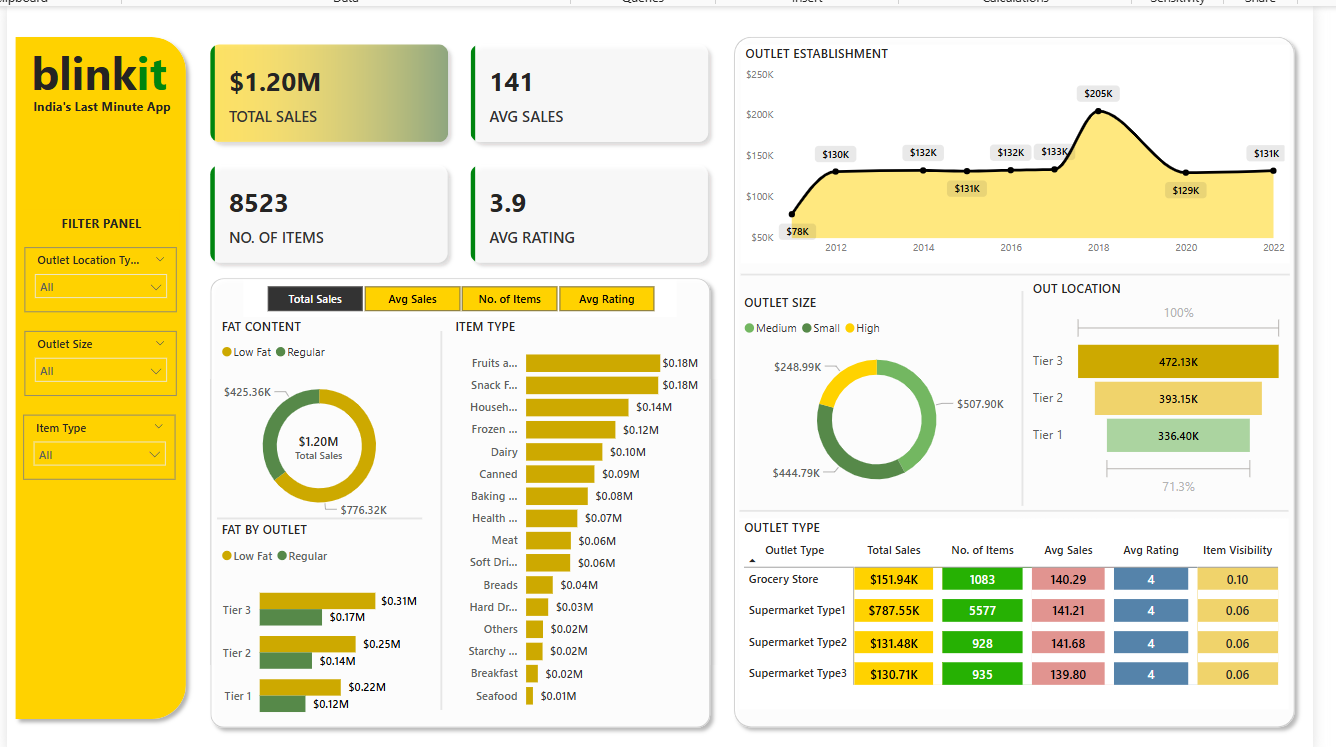

The dashboard page shown, as its layout file describes it:
{"tool":"powerbi","page":{"name":"Page 1","canvas":[1400,800],"ordinal":0},"visuals":[{"type":"shape","box":[0,24.1,201.1,749.3],"z":0},{"type":"textbox","box":[14.7,33.5,167.6,76.4],"z":1000},{"type":"textbox","box":[18.8,93.8,166.2,32.2],"z":2000},{"type":"cardVisual","fields":{"Data":["BlinkIT Grocery Data.Total Sales","BlinkIT Grocery Data.Avg Sales","BlinkIT Grocery Data.No. of Items","BlinkIT Grocery Data.Avg Rating"]},"box":[201.1,24.1,569.7,269.4],"z":3000},{"type":"shape","box":[209.1,282.8,554,500],"z":4000},{"type":"donutChart","title":"FAT CONTENT","fields":{"Y":["BlinkIT Grocery Data.Total Sales"],"Category":["BlinkIT Grocery Data.Item Fat Content"]},"box":[225.2,333.8,219.8,230.6],"z":5000},{"type":"slicer","fields":{"Values":["Metrics.Metrics"]},"box":[253.4,293.6,465.1,40.2],"z":6000},{"type":"cardVisual","fields":{"Data":["BlinkIT Grocery Data.Total Sales"]},"box":[288.2,427.6,92.5,91.2],"z":7000},{"type":"clusteredBarChart","title":"FAT BY OUTLET","fields":{"Y":["BlinkIT Grocery Data.Total Sales"],"Category":["BlinkIT Grocery Data.Outlet Location Type"],"Series":["BlinkIT Grocery Data.Item Fat Content"]},"box":[225.2,552.3,219.8,230.6],"z":8000},{"type":"shape","box":[225.2,541.6,219.8,16.1],"z":9000},{"type":"shape","box":[455.8,348.5,20.1,406.2],"z":10000},{"type":"barChart","title":"ITEM TYPE","fields":{"Y":["BlinkIT Grocery Data.Total Sales"],"Category":["BlinkIT Grocery Data.Item Type"]},"box":[475.9,333.8,270.8,430.3],"z":11000},{"type":"shape","box":[770.8,24.1,619.3,758.7],"z":12000},{"type":"lineChart","title":"OUTLET ESTABLISHMENT","fields":{"Y":["BlinkIT Grocery Data.Total Sales"],"Category":["BlinkIT Grocery Data.Outlet Establishment Year"]},"box":[786.9,41.6,588.5,234.6],"z":13000},{"type":"shape","box":[786.9,282.8,588.5,10.7],"z":14000},{"type":"donutChart","title":"OUTLET SIZE","fields":{"Y":["BlinkIT Grocery Data.Total Sales"],"Category":["BlinkIT Grocery Data.Outlet Size"]},"box":[785.5,308.3,294.9,225.2],"z":15000},{"type":"shape","box":[1081.8,305.6,14.7,230.6],"z":16000},{"type":"funnel","title":"OUT LOCATION","fields":{"Y":["Sum(BlinkIT Grocery Data.Sales)"],"Category":["BlinkIT Grocery Data.Outlet Location Type"]},"box":[1095.2,293.6,278.8,237.3],"z":17000},{"type":"shape","box":[785.5,536.2,588.5,10.7],"z":18000},{"type":"pivotTable","title":"OUTLET TYPE","fields":{"Rows":["BlinkIT Grocery Data.Outlet Type"],"Values":["BlinkIT Grocery Data.Total Sales","BlinkIT Grocery Data.No. of Items","BlinkIT Grocery Data.Avg Sales","BlinkIT Grocery Data.Avg Rating","Avg(BlinkIT Grocery Data.Item Visibility)"]},"box":[785.5,549.6,588.5,205.1],"z":19000},{"type":"slicer","fields":{"Values":["BlinkIT Grocery Data.Outlet Location Type"]},"box":[18.8,258.7,163.5,69.7],"z":20000},{"type":"slicer","fields":{"Values":["BlinkIT Grocery Data.Outlet Size"]},"box":[18.8,348.5,163.5,69.7],"z":21000},{"type":"slicer","fields":{"Values":["BlinkIT Grocery Data.Item Type"]},"box":[17.4,438.3,163.5,69.7],"z":22000},{"type":"textbox","box":[17.4,218.5,167.6,28.2],"z":23000}]}

Visuals, with their boxes on the page's 1400x800 design canvas (x1, y1, x2, y2). These are canvas units, not pixel positions in the 1336x747 screenshot, which may show the page scaled, cropped or inside an application window:
shape: x1=0, y1=24, x2=201, y2=773
textbox: x1=15, y1=34, x2=182, y2=110
textbox: x1=19, y1=94, x2=185, y2=126
cardVisual - BlinkIT Grocery Data.Total Sales x BlinkIT Grocery Data.Avg Sales: x1=201, y1=24, x2=771, y2=294
shape: x1=209, y1=283, x2=763, y2=783
"FAT CONTENT" donutChart: x1=225, y1=334, x2=445, y2=564
slicer - Metrics.Metrics: x1=253, y1=294, x2=718, y2=334
cardVisual - BlinkIT Grocery Data.Total Sales: x1=288, y1=428, x2=381, y2=519
"FAT BY OUTLET" clusteredBarChart: x1=225, y1=552, x2=445, y2=783
shape: x1=225, y1=542, x2=445, y2=558
shape: x1=456, y1=348, x2=476, y2=755
"ITEM TYPE" barChart: x1=476, y1=334, x2=747, y2=764
shape: x1=771, y1=24, x2=1390, y2=783
"OUTLET ESTABLISHMENT" lineChart: x1=787, y1=42, x2=1375, y2=276
shape: x1=787, y1=283, x2=1375, y2=294
"OUTLET SIZE" donutChart: x1=786, y1=308, x2=1080, y2=534
shape: x1=1082, y1=306, x2=1096, y2=536
"OUT LOCATION" funnel: x1=1095, y1=294, x2=1374, y2=531
shape: x1=786, y1=536, x2=1374, y2=547
"OUTLET TYPE" pivotTable: x1=786, y1=550, x2=1374, y2=755
slicer - BlinkIT Grocery Data.Outlet Location Type: x1=19, y1=259, x2=182, y2=328
slicer - BlinkIT Grocery Data.Outlet Size: x1=19, y1=348, x2=182, y2=418
slicer - BlinkIT Grocery Data.Item Type: x1=17, y1=438, x2=181, y2=508
textbox: x1=17, y1=218, x2=185, y2=247
